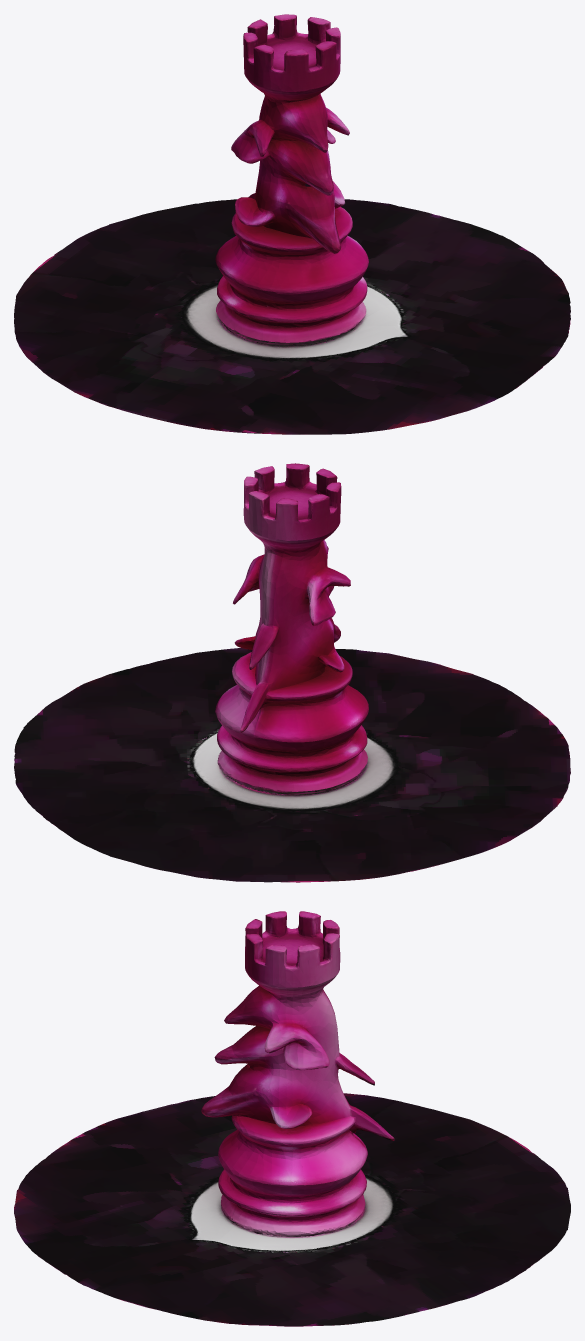
The model's file is rook.glb.
3 views of the same model, one above another, from view 1: azimuth 30°, elevation 25°; view 2: azimuth 150°, elevation 25°; view 3: azimuth 270°, elevation 25° (orthographic).
Visible parts, largest first — view 1: world; view 2: world; view 3: world.
Boxes of the visible parts, x1,y1,x2,y2 form: world: [14, 14, 570, 434]; world: [14, 463, 570, 882]; world: [14, 911, 570, 1326].
Bounding box in the file's own units: 0.9997 × 0.5553 × 0.9997.
Materials: 1 (1 with a texture image).
